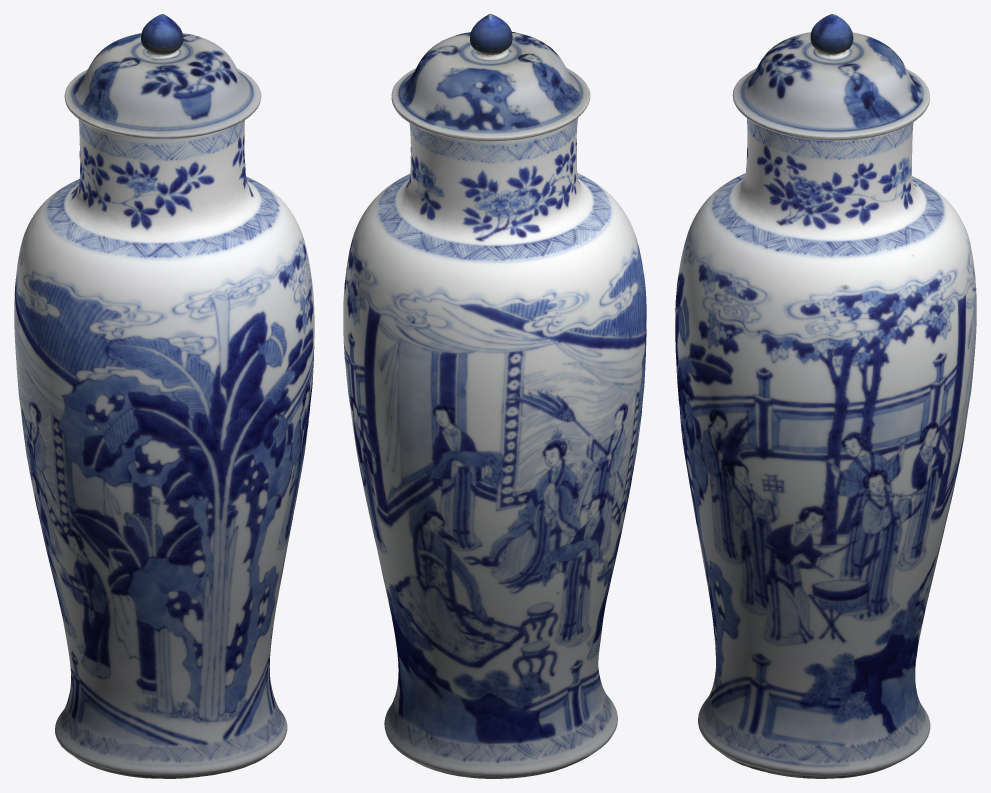
File: Baluster-vase,-one-of-three-in-a-five-piece-garniture-(F1980.190--194).glb
3 views of the same model, side by side, from view 1: azimuth 30°, elevation 25°; view 2: azimuth 150°, elevation 25°; view 3: azimuth 270°, elevation 25° (orthographic).
Size of the model in its own units: 0.1719 by 0.4559 by 0.1722.
Materials: 1 (1 with a texture image).
